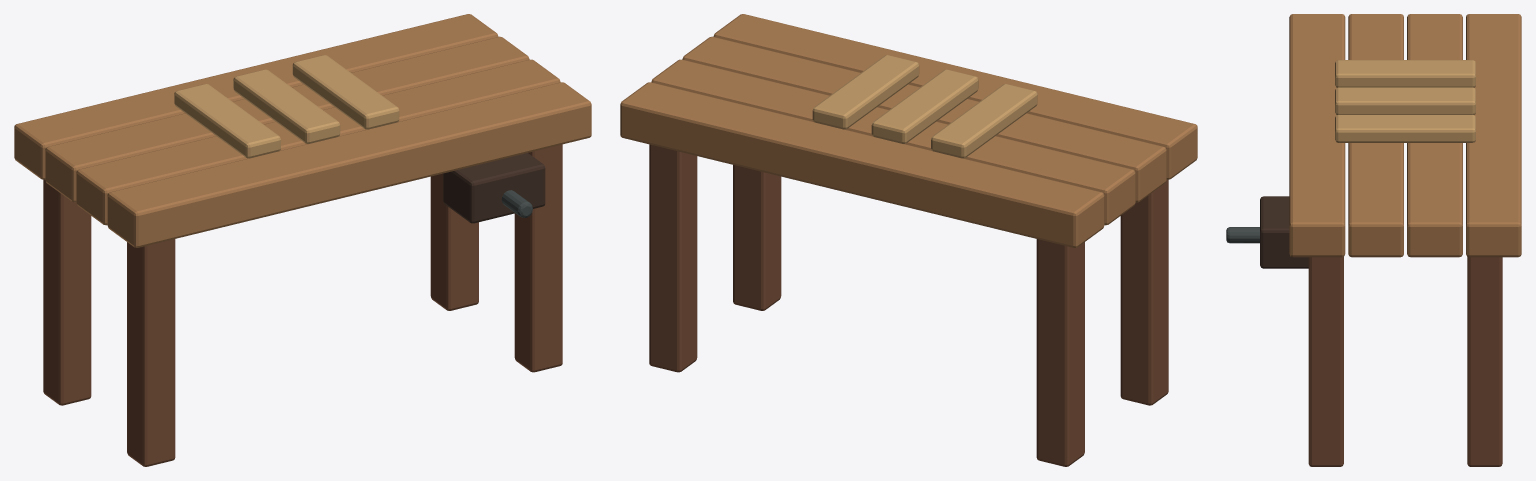
The model's file is prop_workbench.glb.
3 views of the same model, side by side, from view 1: azimuth 30°, elevation 25°; view 2: azimuth 150°, elevation 25°; view 3: azimuth 270°, elevation 25° (orthographic). The views are drawn at different scales.
Parts seen in each view (by area): view 1: prop_workbench__attachments; view 2: prop_workbench__attachments; view 3: prop_workbench__attachments.
Boxes of the visible parts, bbox=[...] form: prop_workbench__attachments: bbox=[14, 14, 591, 466]; prop_workbench__attachments: bbox=[620, 14, 1197, 466]; prop_workbench__attachments: bbox=[1226, 14, 1521, 466].
Size of the model in its own units: 1.7 by 1.01 by 1.01.
